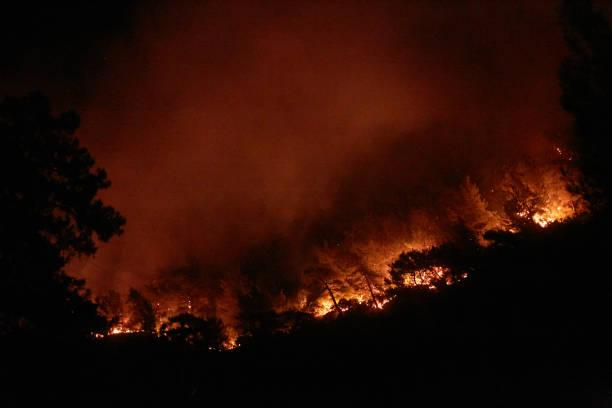Fire: (534, 181, 580, 222), (319, 283, 382, 305)
